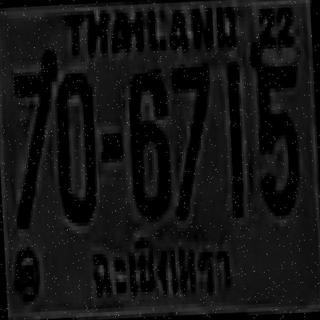N00: (52, 69, 98, 220)
N01: (224, 61, 246, 214)
N05: (252, 58, 302, 213)
N06: (125, 68, 171, 216)
N07: (7, 49, 62, 226), (168, 63, 214, 217)
P07: (85, 230, 235, 313)
